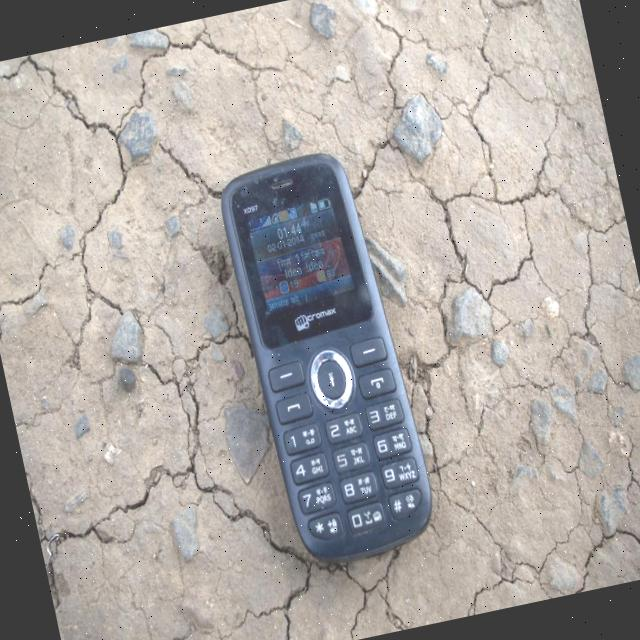Phone: (208, 132, 448, 574)
